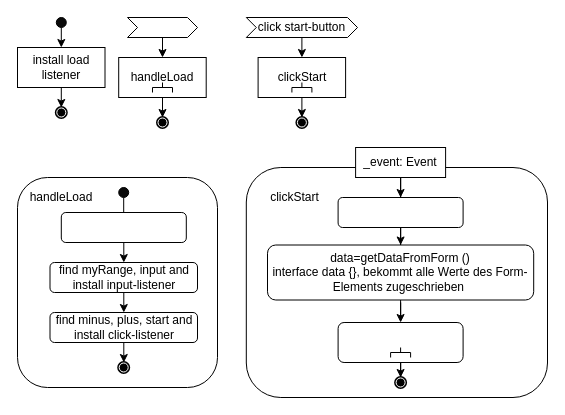
This 565x415 diagram has some shape labels left out. The shapes that lost their labels are listed below. From the top down, each one's centre as x and y in pixels, then its label:
(x=162, y=27): load
(x=123, y=227): find form-div and install change-listener
(x=400, y=212): delet previous card
(x=400, y=342): createCard
